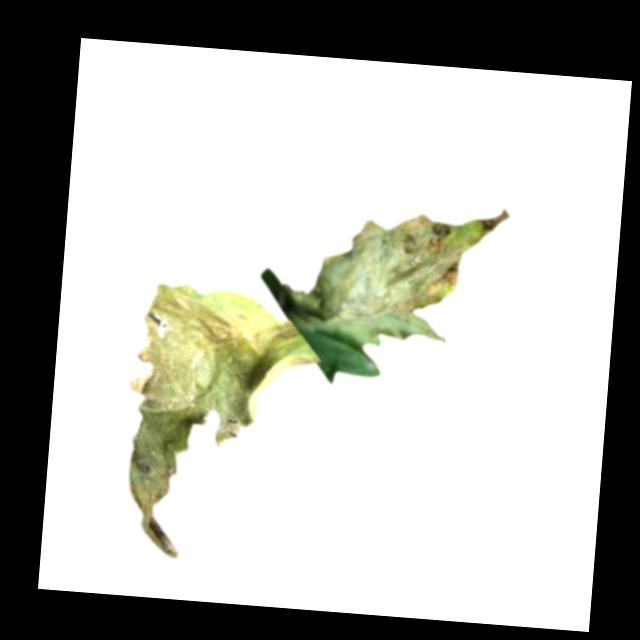Late_blight: (115, 278, 319, 569), (275, 190, 509, 361)
